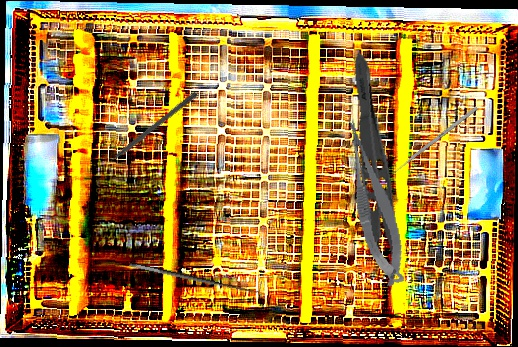Hook Surgical: (128, 251, 263, 298)
Micro Scissor: (340, 113, 410, 290)
Pusher: (95, 90, 199, 173), (387, 105, 479, 179)
Tissue Forceps: (333, 50, 407, 282)
